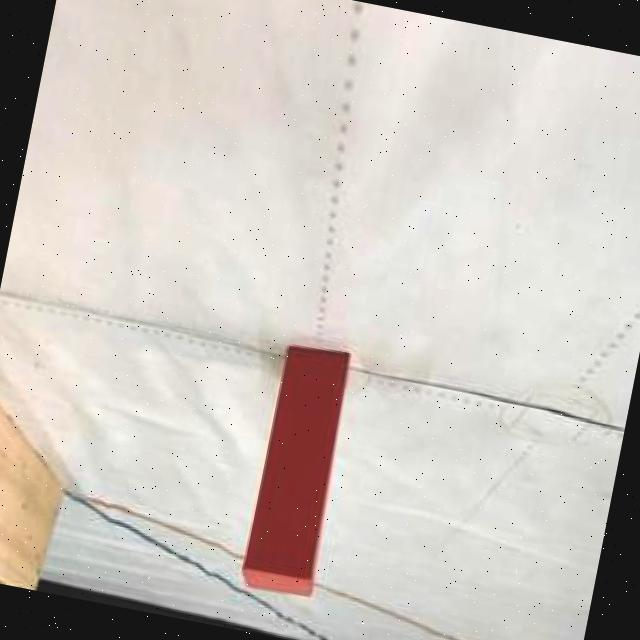redbox: (238, 340, 361, 600)
